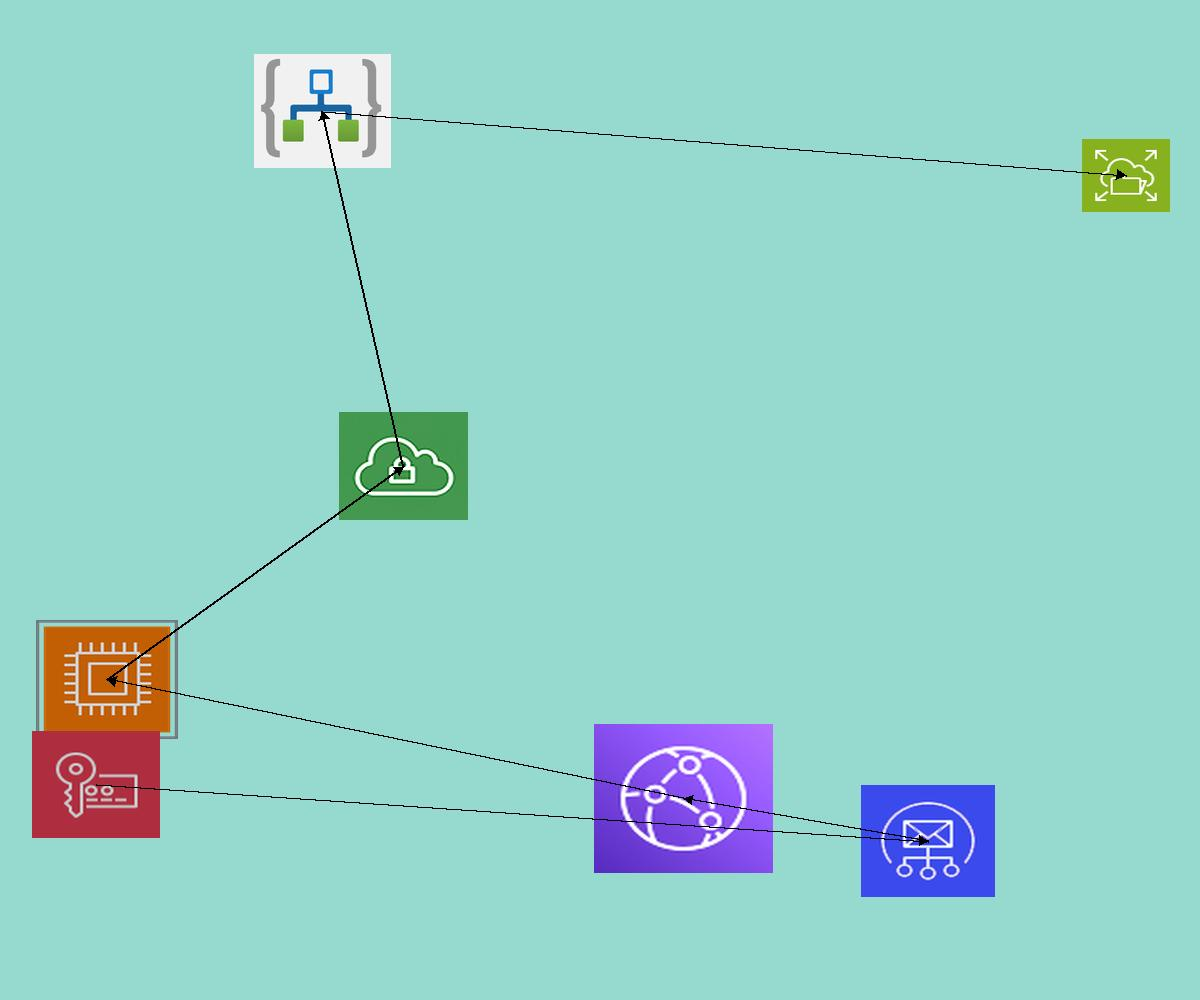AWS-Category_Compute: (36, 620, 178, 739)
AWS-CloudFront: (594, 724, 773, 873)
AWS-EFS: (1082, 139, 1170, 212)
AWS-Key-Management-Service: (32, 731, 160, 838)
AWS-Private_vpc: (339, 412, 468, 520)
AWS-Simple-Email-Service: (861, 785, 995, 897)
Azure_integration-204-Logic-Apps: (254, 54, 391, 168)
